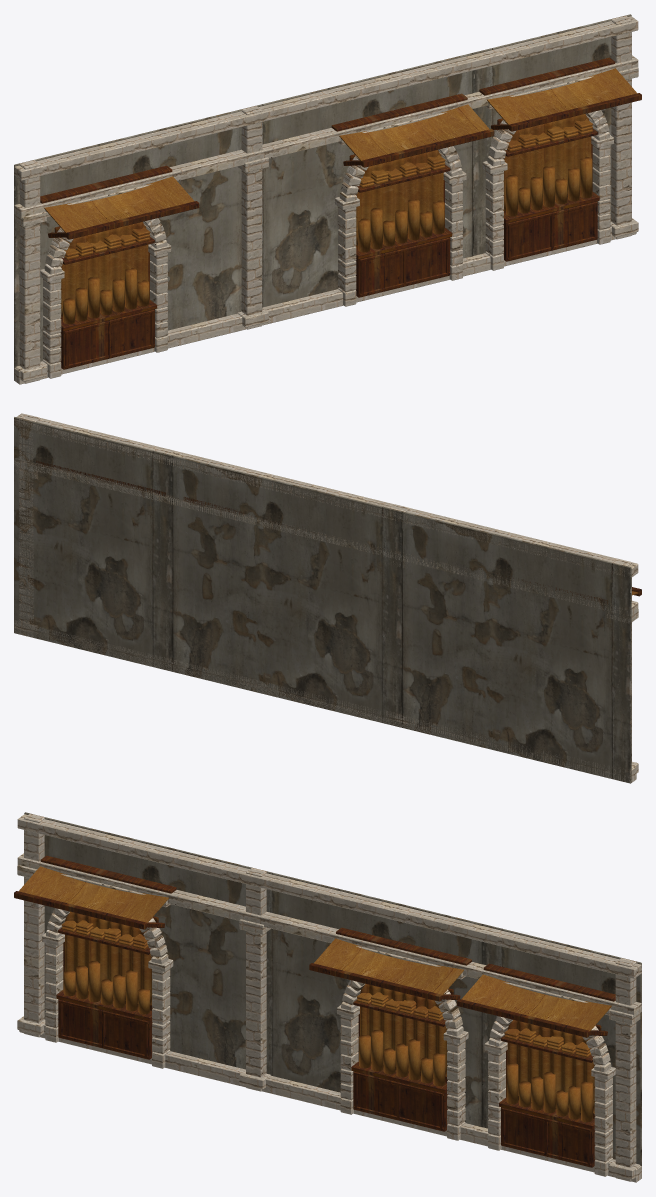
Rendered from textile-east.glb.
3 renders of one model, top to bottom at view 1: azimuth 30°, elevation 25°; view 2: azimuth 150°, elevation 25°; view 3: azimuth 330°, elevation 25°, orthographic.
Parts seen in each view (by area): view 1: Weathered lime wall face; view 2: Weathered lime wall face; view 3: Weathered lime wall face.
Boxes of the visible parts, left/top/right/bottom form: Weathered lime wall face: left=14, top=14, right=641, bottom=384; Weathered lime wall face: left=14, top=413, right=641, bottom=783; Weathered lime wall face: left=14, top=812, right=641, bottom=1182.
Bounding box in the file's own units: 13.44 × 4.5 × 1.25.
Materials: 7 (7 with a texture image).
